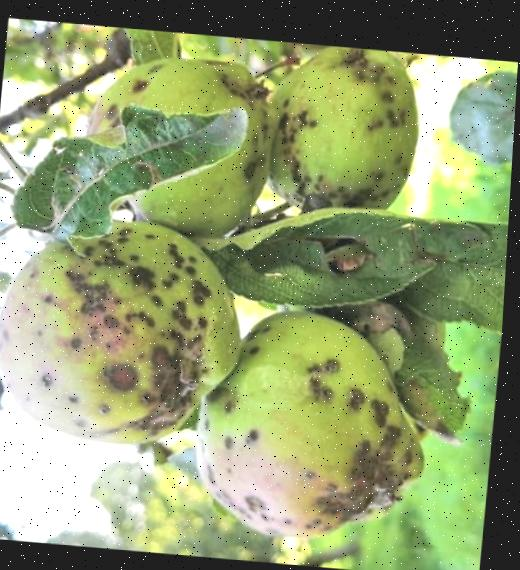SCAB: (0, 31, 496, 524)
